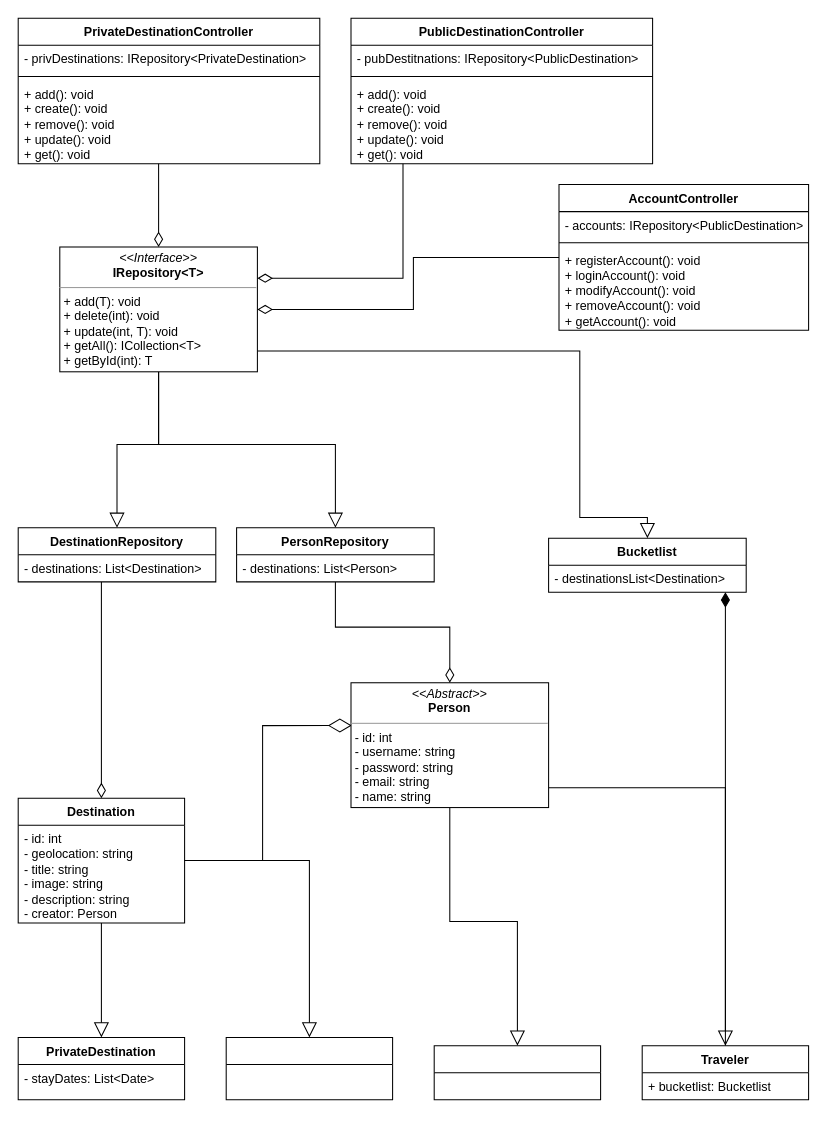
The diagram is 827 pixels wide and 1121 high, and some of its shapes have lost their labels. Here are the shapes that lost their labels. From the top down, the centre of each, then its label:
the point at 309,1068: PublicDestination
the point at 517,1072: Admin
